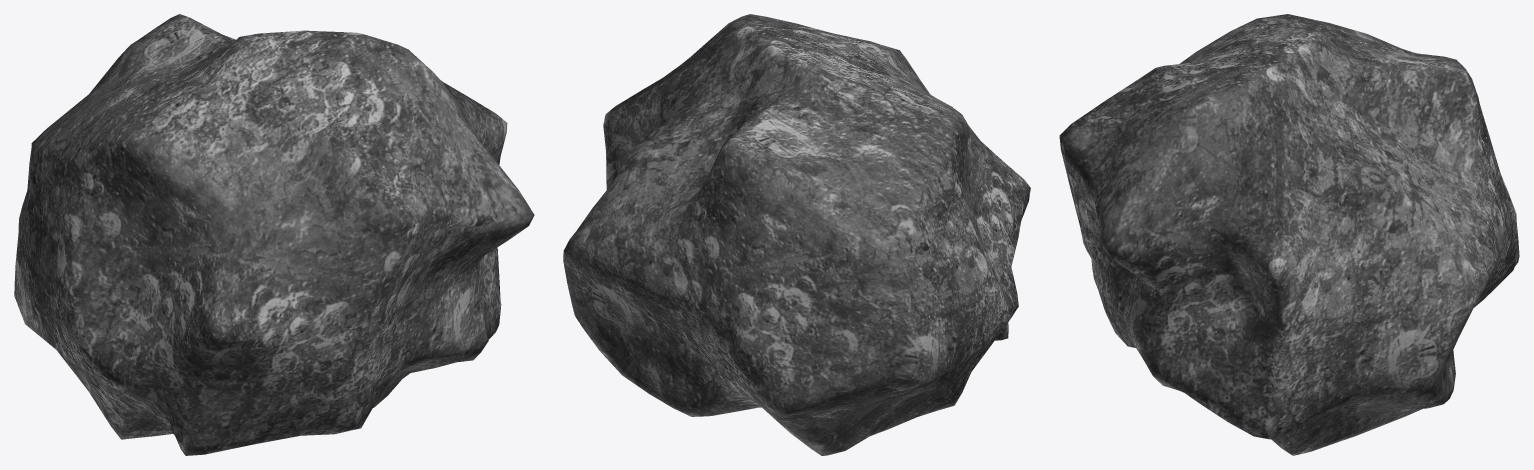
The model's file is Asteroid_6.glb.
3 renders of one model, left to right at view 1: azimuth 30°, elevation 25°; view 2: azimuth 150°, elevation 25°; view 3: azimuth 270°, elevation 25°, orthographic. The views are drawn at different scales.
Parts seen in each view (by area): view 1: Aster_Small_6_; view 2: Aster_Small_6_; view 3: Aster_Small_6_.
Part boxes in pixels (x1,y1,x2,y2): Aster_Small_6_: (14, 14, 534, 455); Aster_Small_6_: (563, 14, 1030, 455); Aster_Small_6_: (1059, 14, 1519, 455).
Bounding box in the file's own units: 14.18 × 12.44 × 13.59.
Materials: 1 (1 with a texture image).
